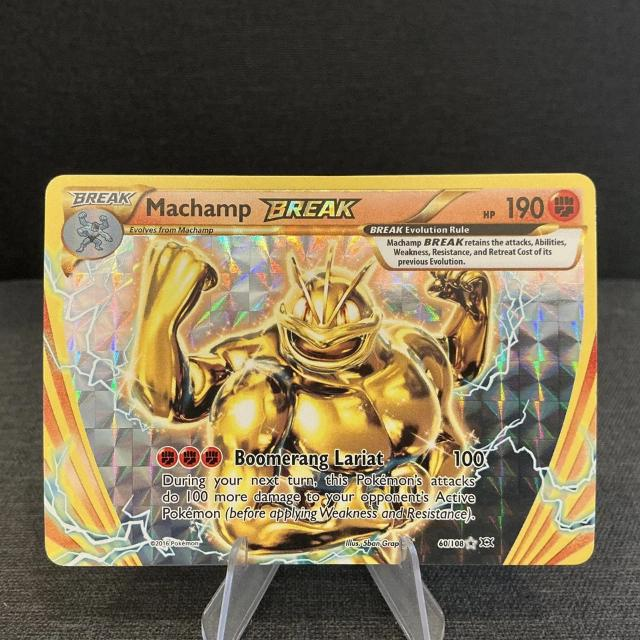Card: (40, 167, 602, 572)
Name: (142, 195, 371, 225)
